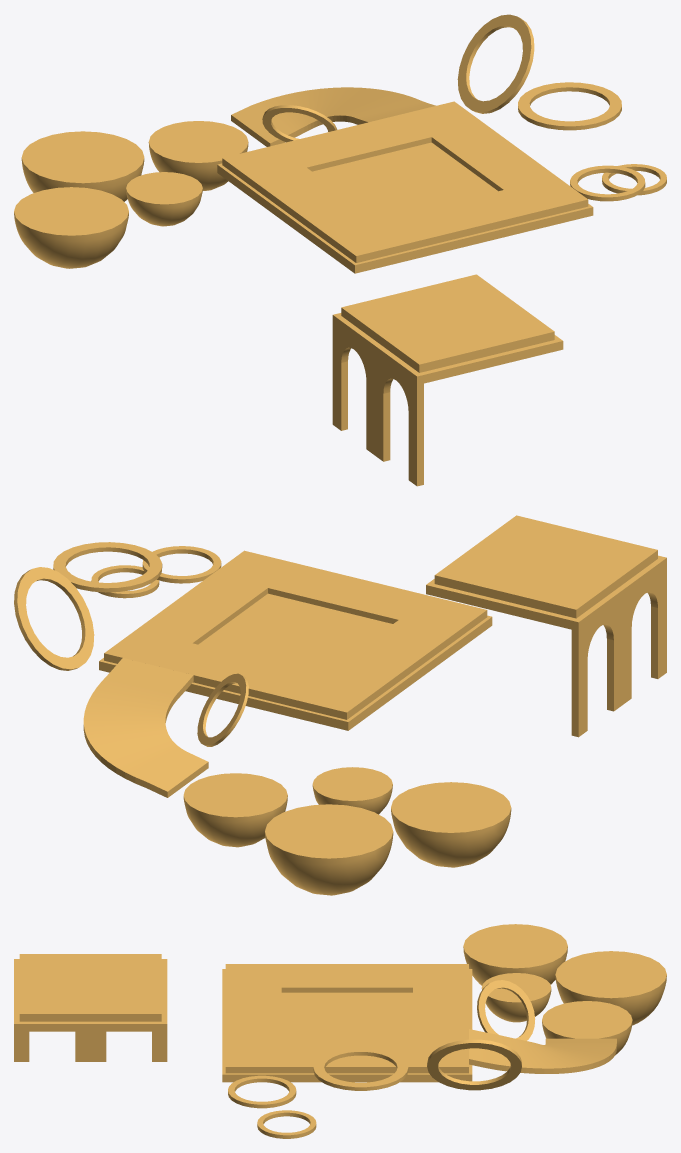
Rendered from OU_AR_Kids_01_D.fbx.
3 views of the same model, one above another, from view 1: azimuth 30°, elevation 25°; view 2: azimuth 150°, elevation 25°; view 3: azimuth 270°, elevation 25° (orthographic). The views are drawn at different scales.
Parts seen in each view (by area): view 1: OU_AR_Kids_01_D; view 2: OU_AR_Kids_01_D; view 3: OU_AR_Kids_01_D.
Boxes of the visible parts, x1,y1,x2,y2 form: OU_AR_Kids_01_D: (14,14,666,486); OU_AR_Kids_01_D: (14,515,666,895); OU_AR_Kids_01_D: (14,924,666,1138).
Bounding box in the file's own units: 2662 × 965 × 3216.
